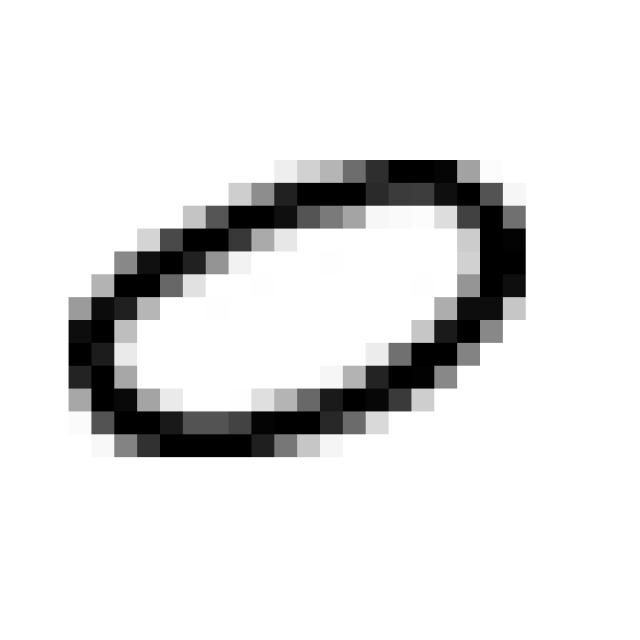5 -five-: (51, 144, 542, 474)
